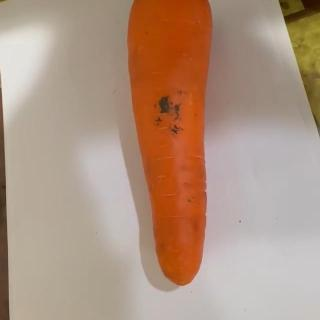carrot: (121, 0, 221, 289)
